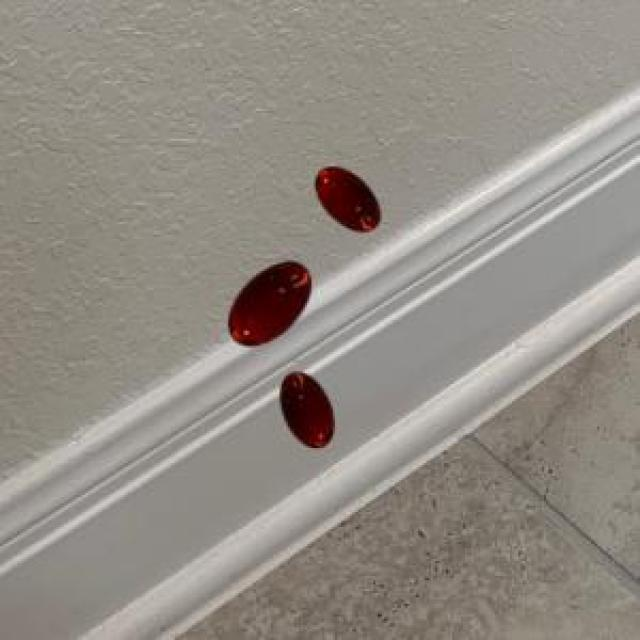Medicol: (211, 247, 321, 355), (258, 363, 354, 458), (307, 154, 391, 237)
